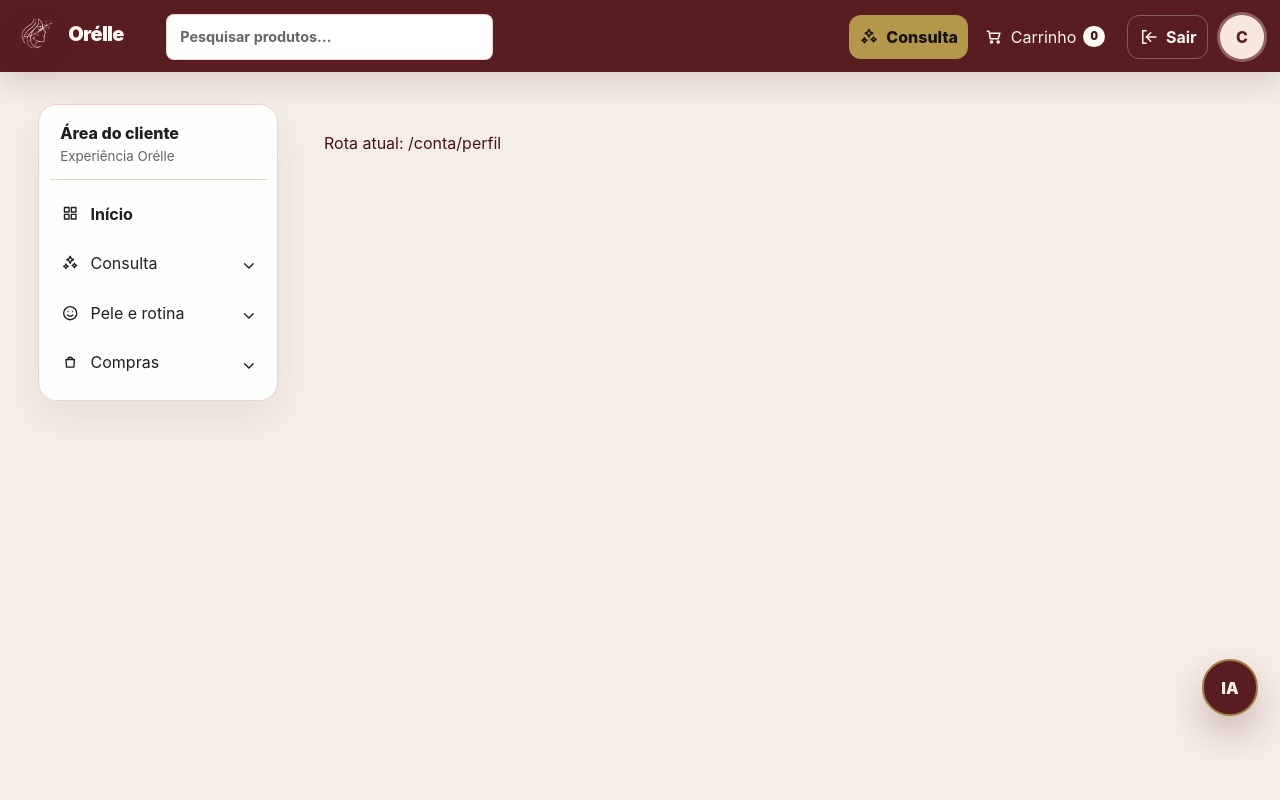
Test: RoleNavigation › move a conta e notificações para o avatar e conserva o carrinho na topbar
The image size is (1280, 800).
Expected: the button with aria-label "Carrinho, 0 unidades" is shown, [973, 15, 1116, 59]
Expected: the link "Notificações" is not shown
What coordinates should you click on to do the following:
click the button named "Abrir menu da conta"
I would click on:
 (1242, 37)
Its box is [1220, 15, 1264, 59].
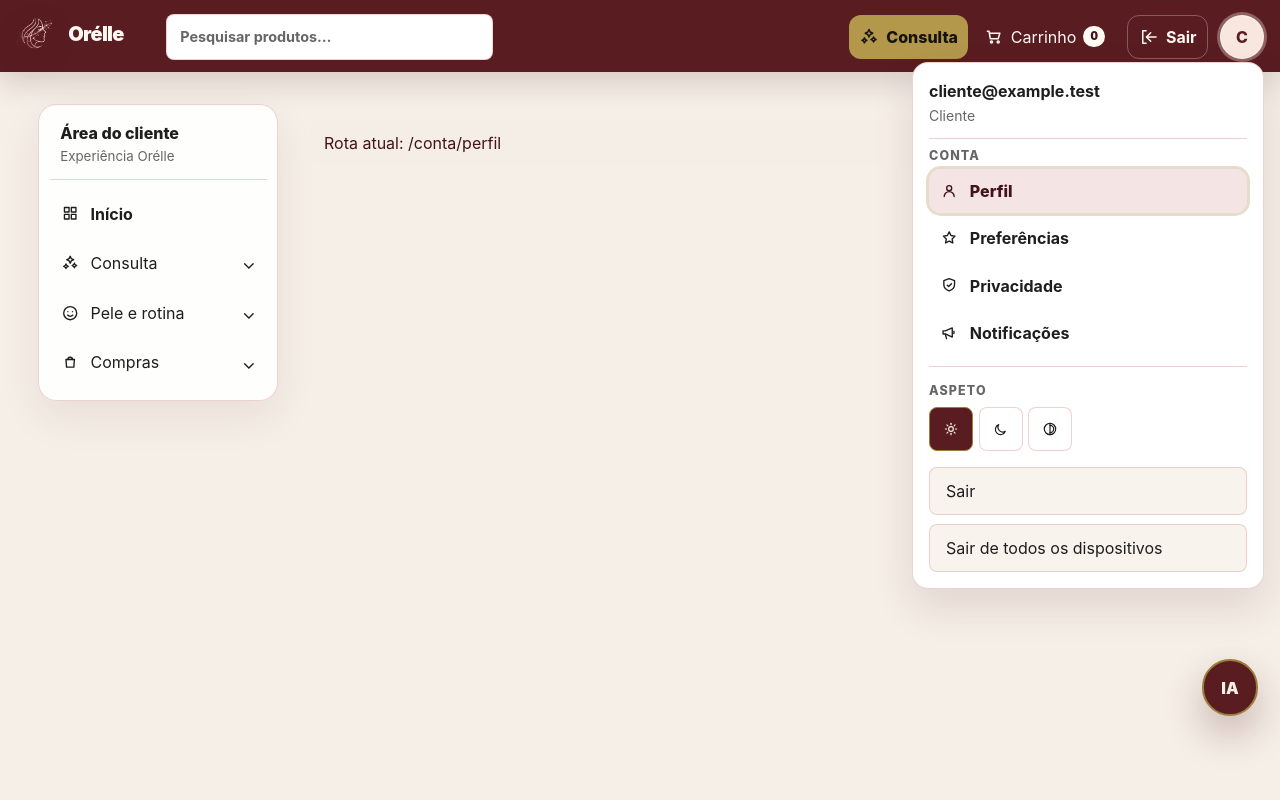
Now the links read "Perfil", "Preferências", "Privacidade", "Notificações", in this order
What coordinates should you click on to do the following:
click the link "Notificações"
I would click on:
 (1005, 333)
Its box is [940, 323, 1069, 343].
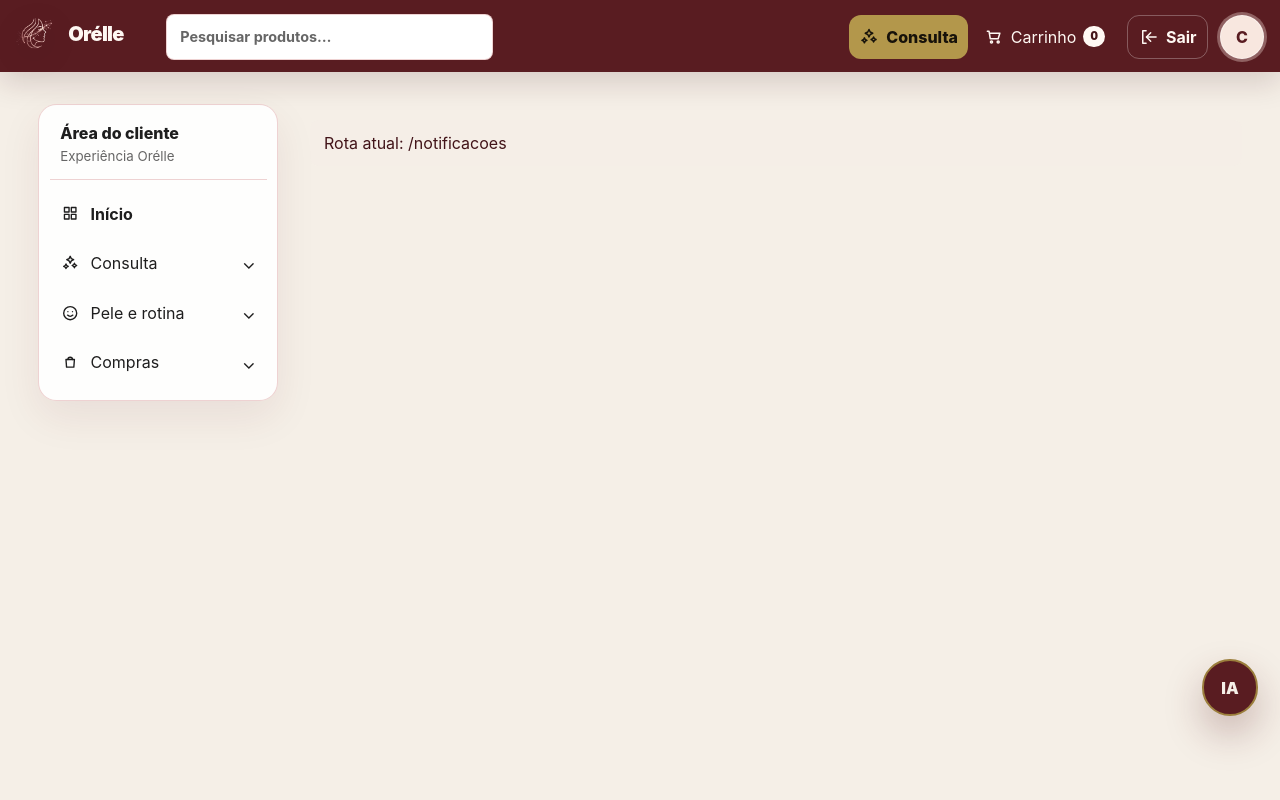
Now the text "Rota atual: /notificacoes" is shown, box [310, 120, 1242, 166]
